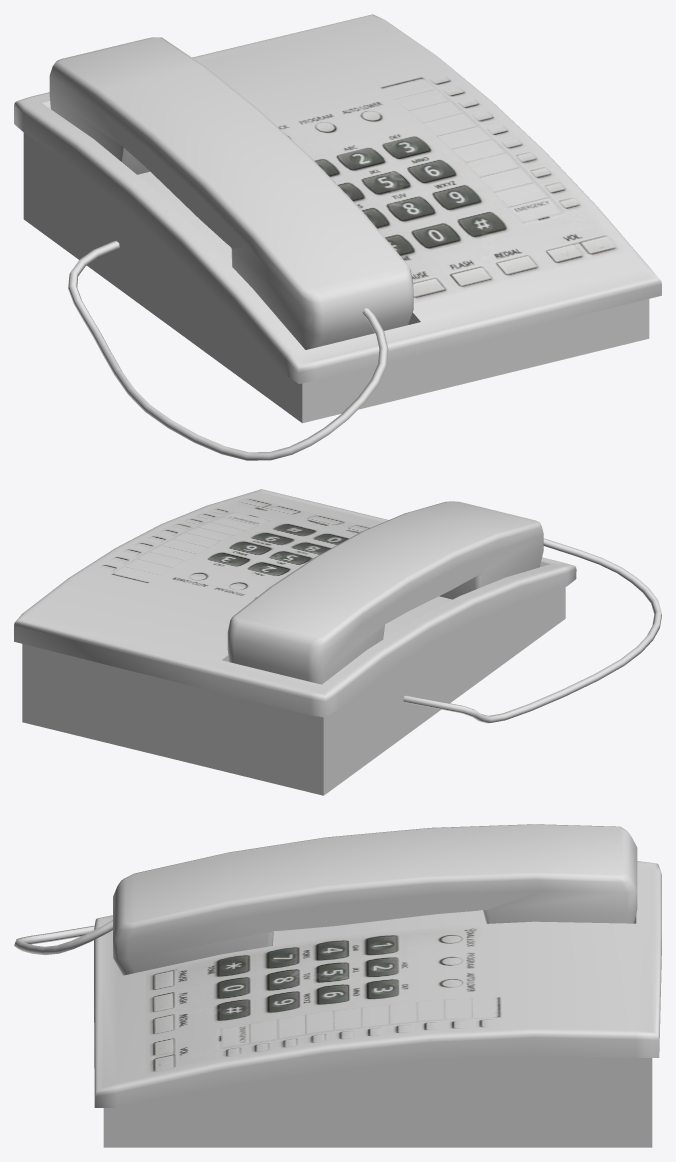
The model's file is Phone01.FBX.
The picture shows the model from 3 angles, top to bottom: view 1: azimuth 30°, elevation 25°; view 2: azimuth 150°, elevation 25°; view 3: azimuth 270°, elevation 25°; orthographic projection. The views are drawn at different scales.
Parts seen in each view (by area): view 1: Phone01; view 2: Phone01; view 3: Phone01.
Boxes of the visible parts, left/top/right/bottom form: Phone01: left=14, top=14, right=661, bottom=460; Phone01: left=14, top=489, right=661, bottom=795; Phone01: left=14, top=824, right=661, bottom=1147.
Size of the model in its own units: 274 by 94.52 by 334.
